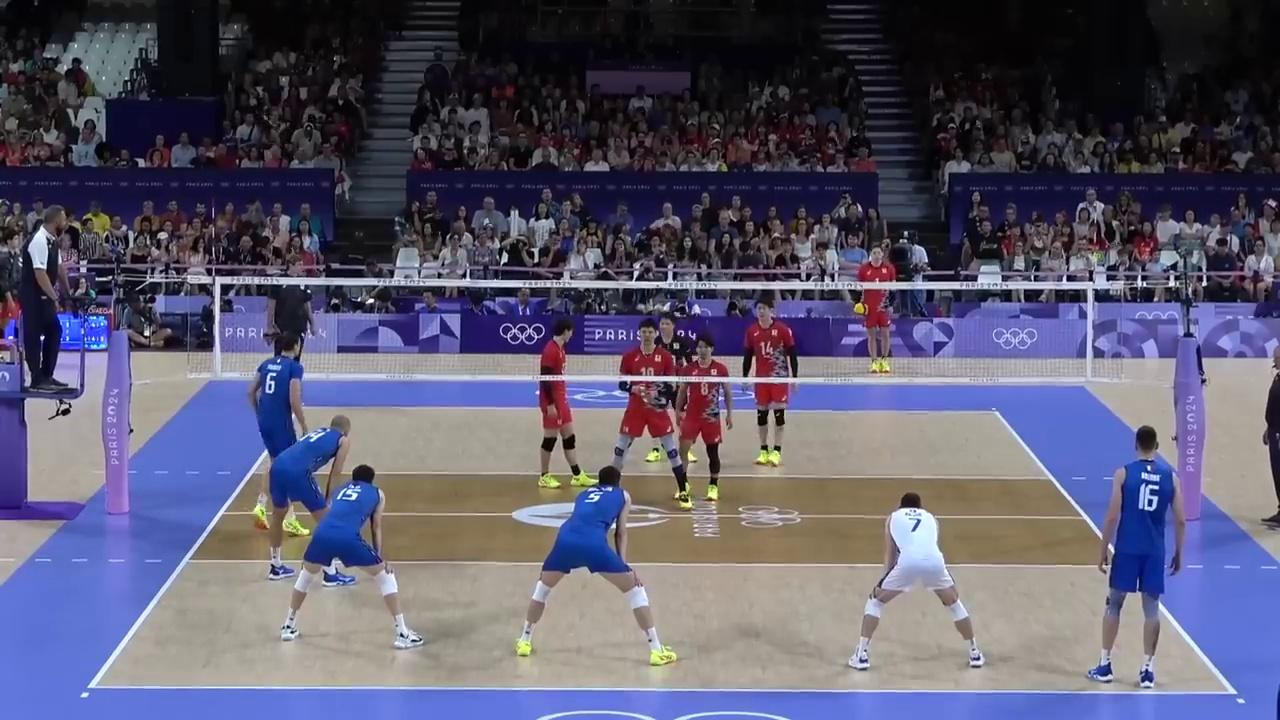ball: (852, 303, 867, 318)
